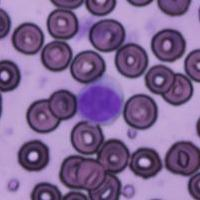L: (76, 76, 124, 125)
